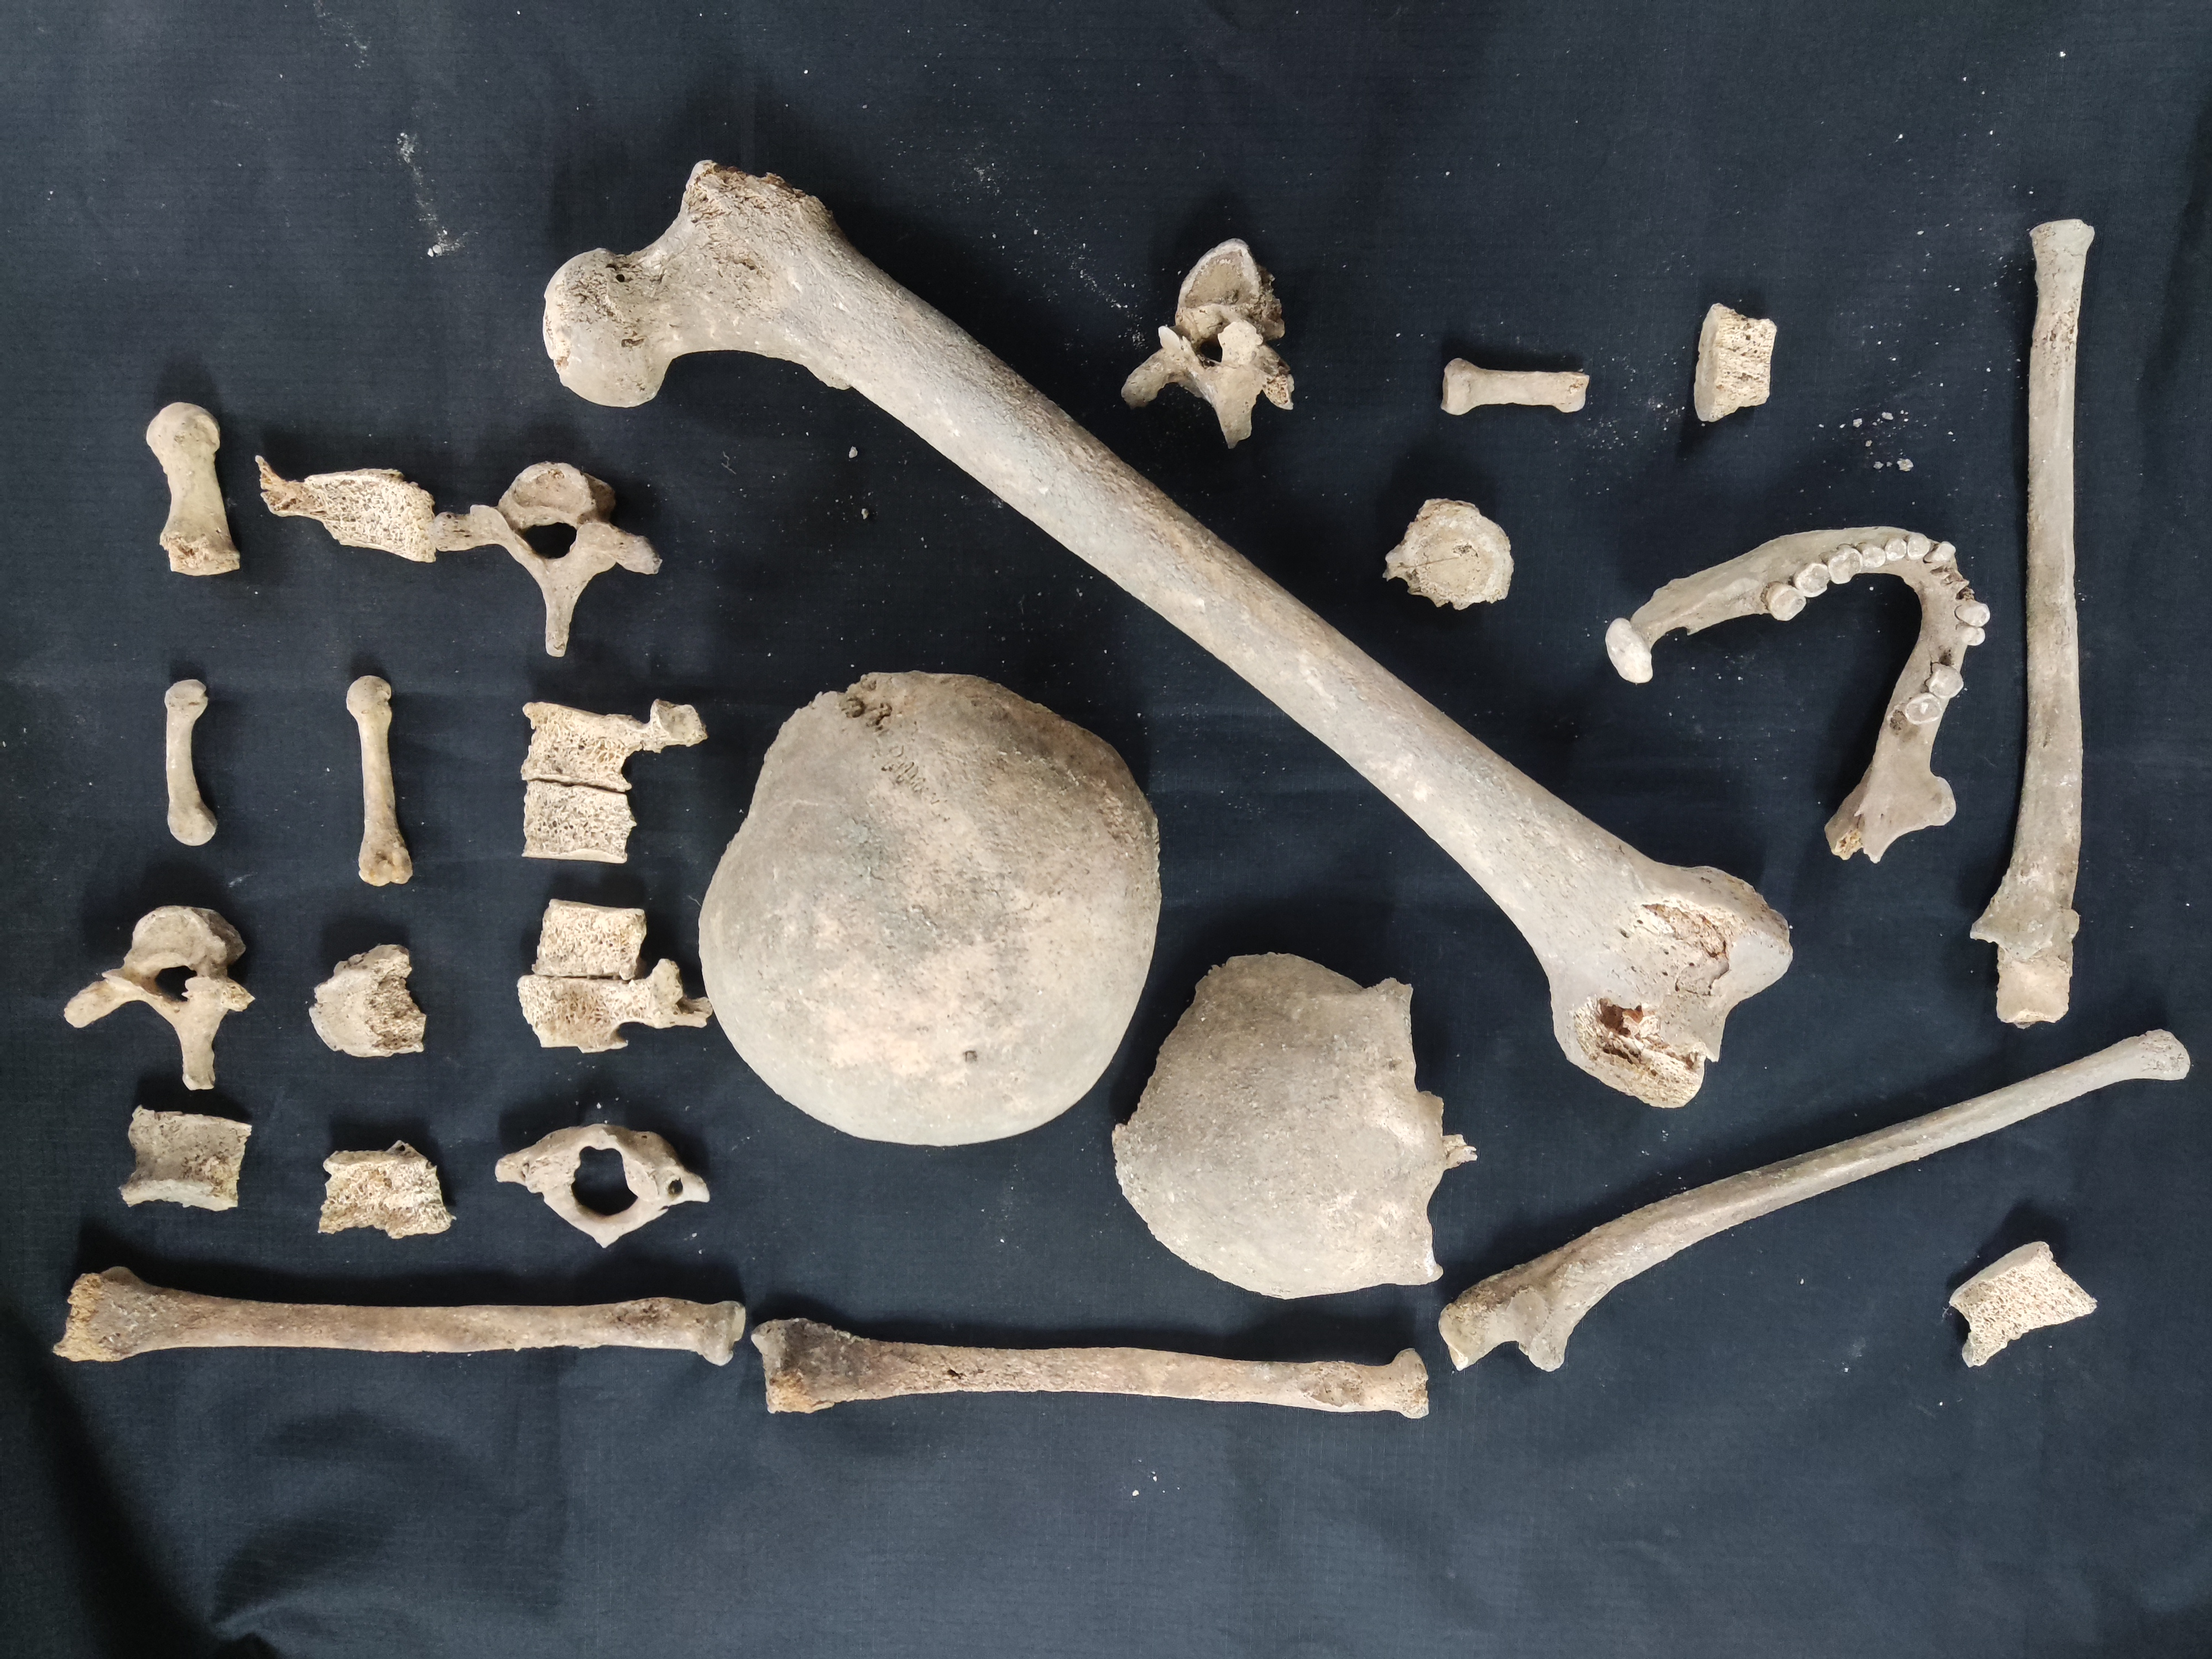бедренная: (516, 146, 1806, 1101)
грудной позвонок: (1078, 258, 1303, 441), (441, 458, 667, 633), (45, 892, 261, 1047)
локтевая: (1437, 1018, 2189, 1380), (1970, 207, 2094, 1026)
лучевая: (749, 1309, 1440, 1425), (45, 1276, 752, 1356)
сломанный позвонок: (503, 695, 709, 871), (509, 892, 683, 1060), (246, 441, 434, 575), (1378, 483, 1515, 617), (117, 1100, 254, 1209), (1952, 1258, 2090, 1366), (312, 1134, 453, 1239), (308, 943, 434, 1058), (1691, 300, 1777, 430)
стопа: (134, 396, 240, 575), (345, 667, 425, 884), (1432, 345, 1594, 422), (158, 676, 225, 847)
челюсть: (1595, 504, 1994, 863)
череп: (679, 659, 1177, 1143), (1111, 955, 1479, 1300)
шейный позвонок: (491, 1114, 721, 1251)
